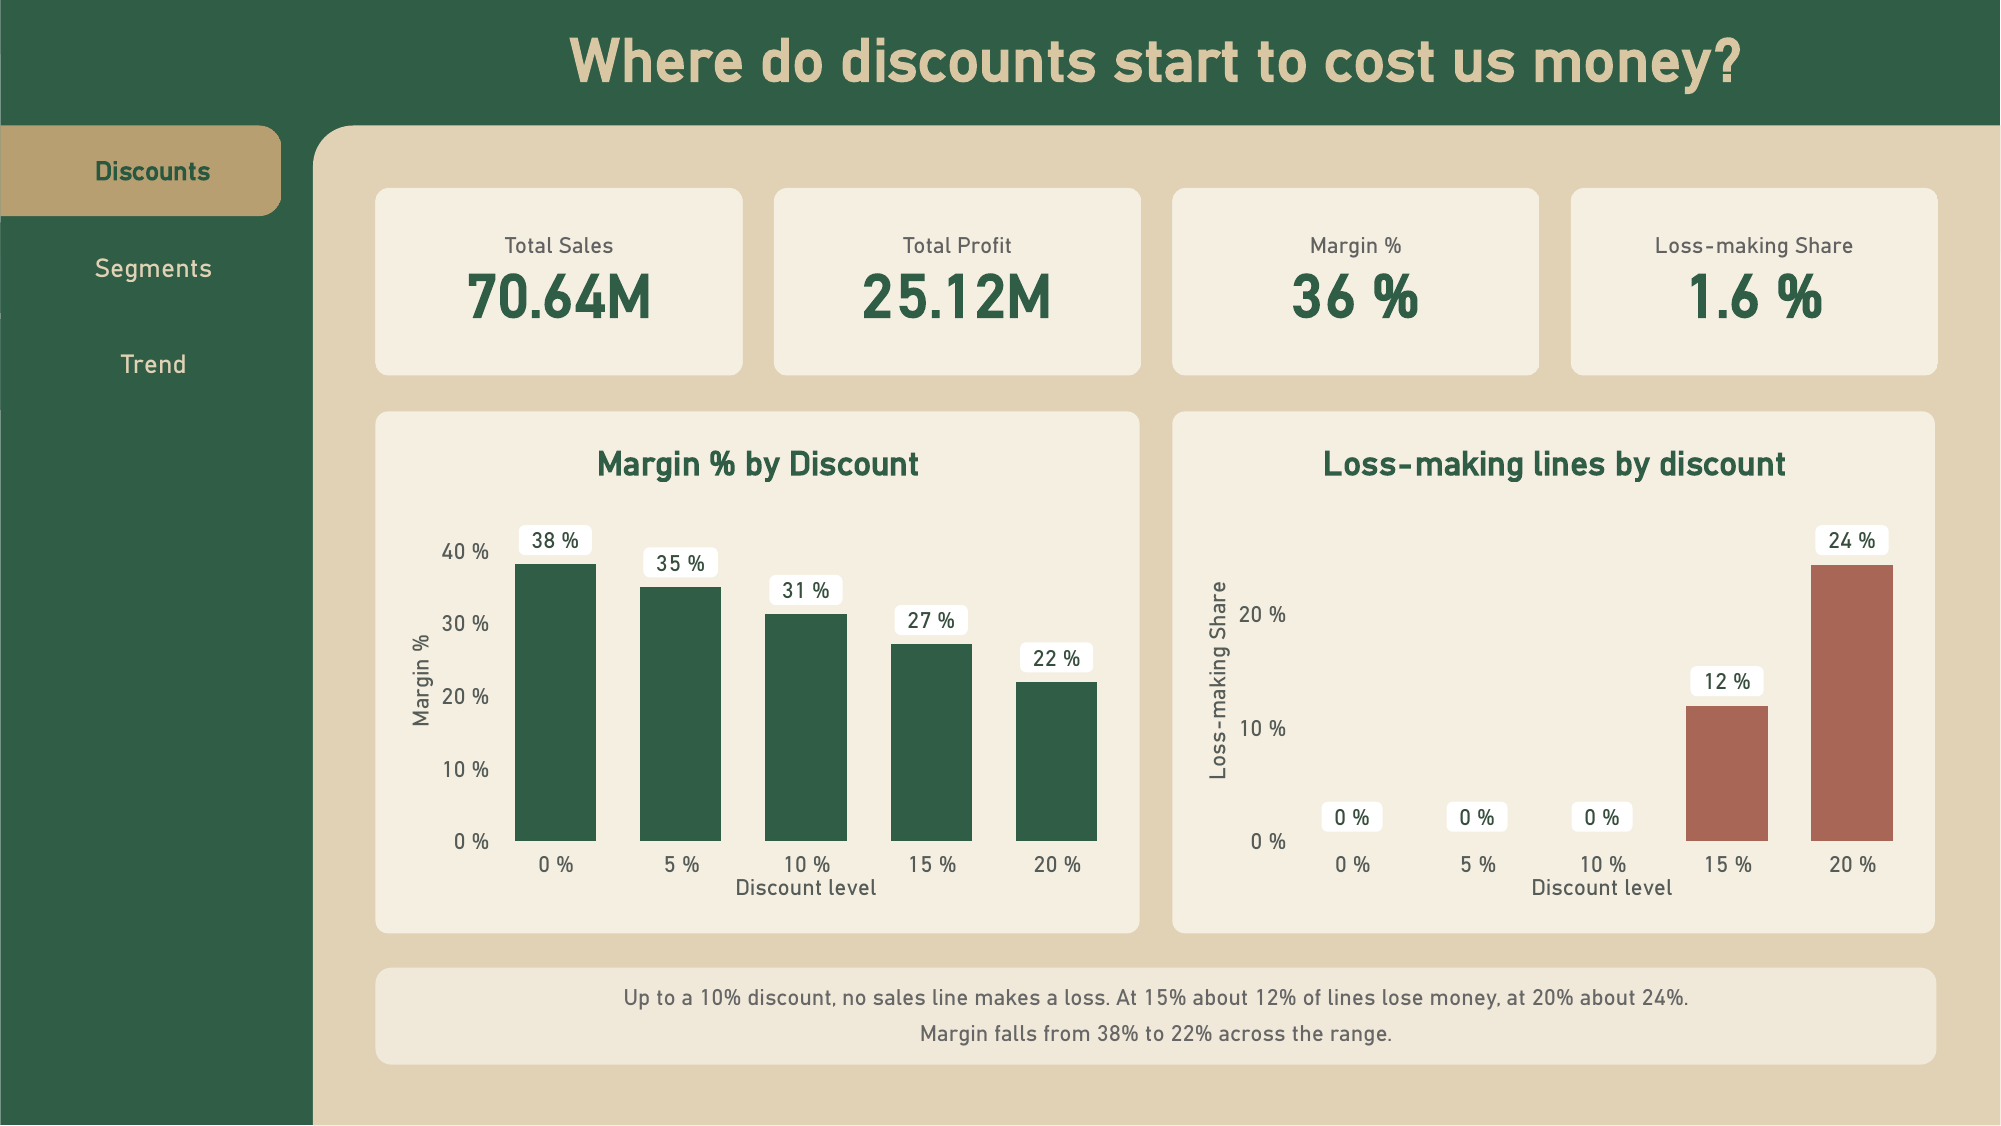

The dashboard page shown, as its layout file describes it:
{"tool":"powerbi","page":{"name":"Discounts","canvas":[1280,720],"ordinal":0},"visuals":[{"type":"shape","box":[200.4,80,1080,640],"z":0},{"type":"clusteredColumnChart","fields":{"Category":["FactSales.Discount"],"Y":["FactSales.Margin %"]},"box":[240.2,262.6,488.3,334.6],"z":1000},{"type":"textbox","box":[200.4,16,1079.6,60],"z":2000},{"type":"cardVisual","fields":{"Data":["FactSales.Total Sales","FactSales.Total Profit","FactSales.Margin %","FactSales.Loss-making Share"]},"box":[200.4,79.8,1079.6,200.4],"z":3000},{"type":"clusteredColumnChart","title":"Loss-making lines by discount","fields":{"Category":["FactSales.Discount"],"Y":["FactSales.Loss-making Share"]},"box":[749.9,262.6,488.3,334.6],"z":4000},{"type":"pageNavigator","box":[0,79.8,200.4,182.9],"z":5000},{"type":"shape","box":[240.4,619,998.6,62.1],"z":6000},{"type":"cardVisual","fields":{"Data":["FactSales.Insight Line 1"]},"box":[240.4,623,998.6,28],"z":7000},{"type":"cardVisual","fields":{"Data":["FactSales.Insight Line 2"]},"box":[240.4,646,998.6,28],"z":8000}]}

Visuals, with their boxes in screenshot pixels (x1, y1, x2, y2), scaled from the page's 1280x720 canvas onto the 2001x1126 screenshot:
shape: bbox=(313, 125, 2000, 1125)
clusteredColumnChart - FactSales.Discount x FactSales.Margin %: bbox=(376, 411, 1139, 934)
textbox: bbox=(313, 25, 2000, 119)
cardVisual - FactSales.Total Sales x FactSales.Total Profit: bbox=(313, 125, 2000, 438)
"Loss-making lines by discount" clusteredColumnChart: bbox=(1172, 411, 1936, 934)
pageNavigator: bbox=(0, 125, 313, 411)
shape: bbox=(376, 968, 1937, 1065)
cardVisual - FactSales.Insight Line 1: bbox=(376, 974, 1937, 1018)
cardVisual - FactSales.Insight Line 2: bbox=(376, 1010, 1937, 1054)
